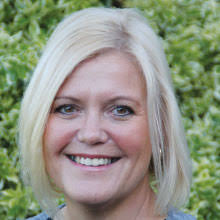white_female: (24, 38, 174, 205)
